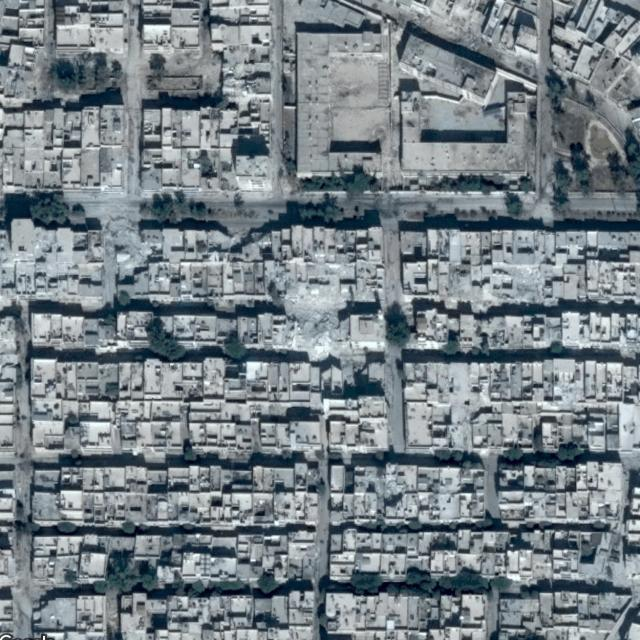damaged_building: (262, 255, 356, 360), (101, 214, 161, 273)
